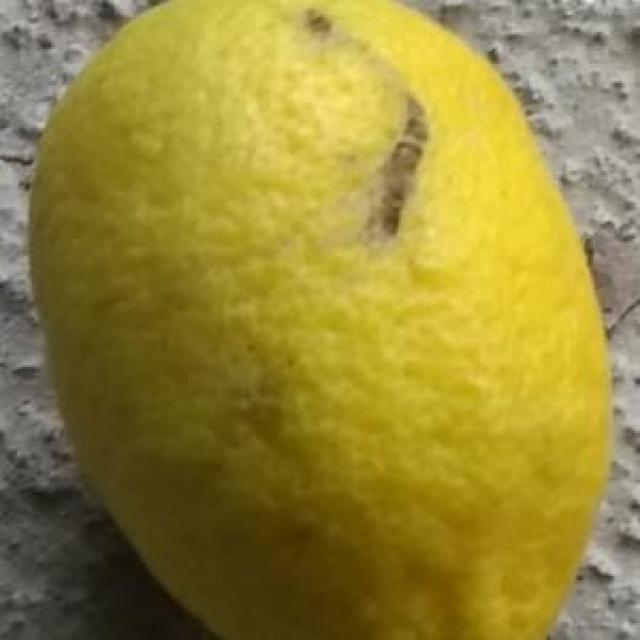lemon: (27, 0, 630, 640)
